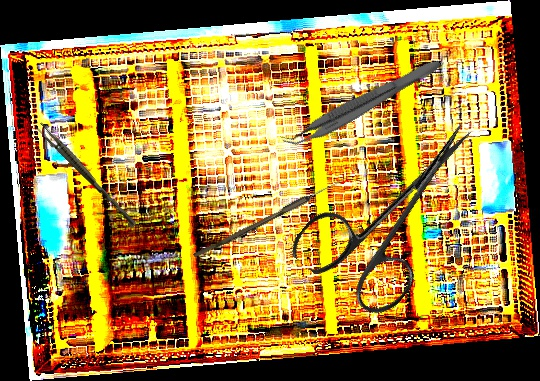Iris Scissors: (285, 88, 511, 327)
Surgical Spoon: (193, 172, 350, 262)
Tissue Forceps: (279, 48, 444, 157), (33, 121, 141, 229)
